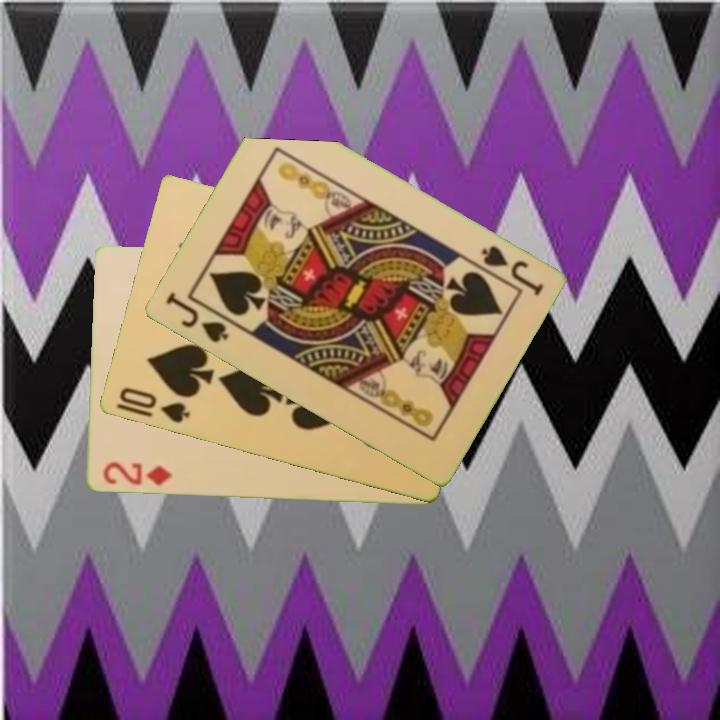10s: (115, 384, 193, 427)
2d: (99, 458, 175, 489)
Js: (161, 289, 231, 347), (477, 241, 546, 299)
